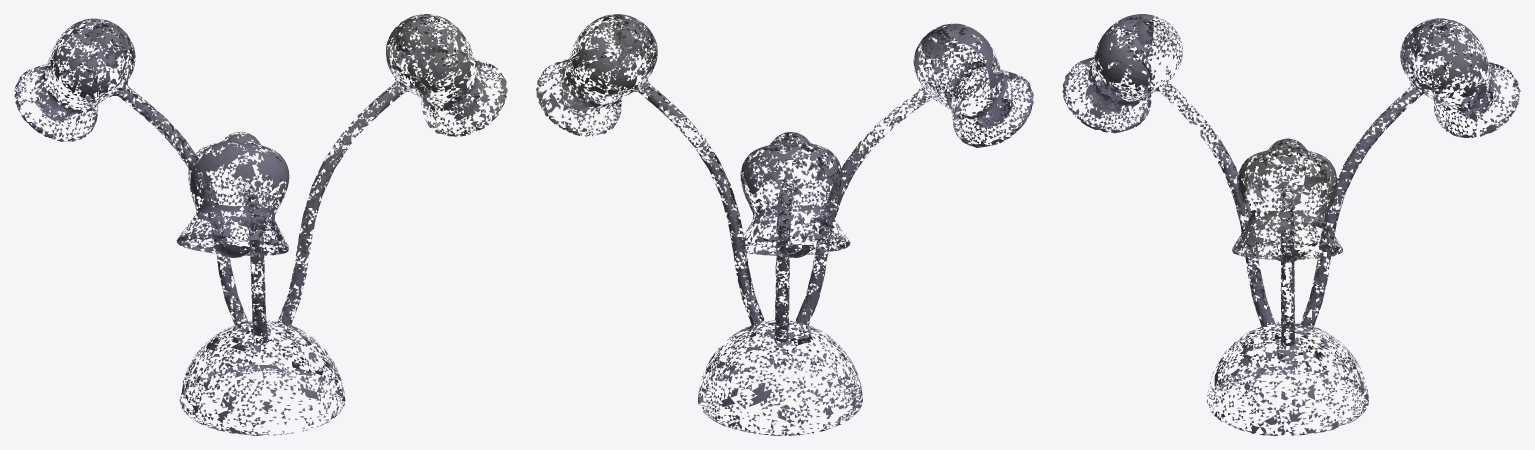
The model's file is lamp_final800.obj.
The picture shows the model from 3 angles, left to right: view 1: azimuth 30°, elevation 25°; view 2: azimuth 150°, elevation 25°; view 3: azimuth 270°, elevation 25°; orthographic projection.
Size of the model in its own units: 1.59 by 1.32 by 1.62.
